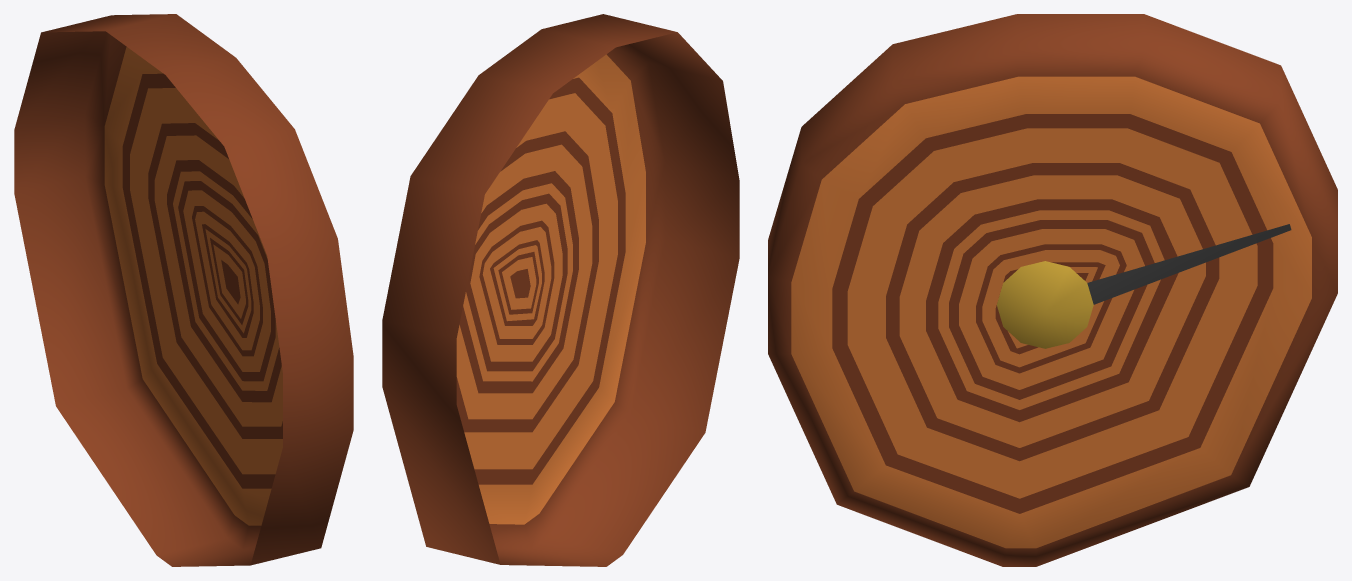
Rendered from meter.fbx.
3 renders of one model, left to right at view 1: azimuth 30°, elevation 25°; view 2: azimuth 150°, elevation 25°; view 3: azimuth 270°, elevation 25°, orthographic. The views are drawn at different scales.
Parts seen in each view (by area): view 1: meter; view 2: meter; view 3: meter.
Boxes of the visible parts, x1,y1,x2,y2 form: meter: (14,14,353,566); meter: (382,14,739,566); meter: (768,14,1337,566).
Size of the model in its own units: 2.61 by 12.57 by 12.57.
